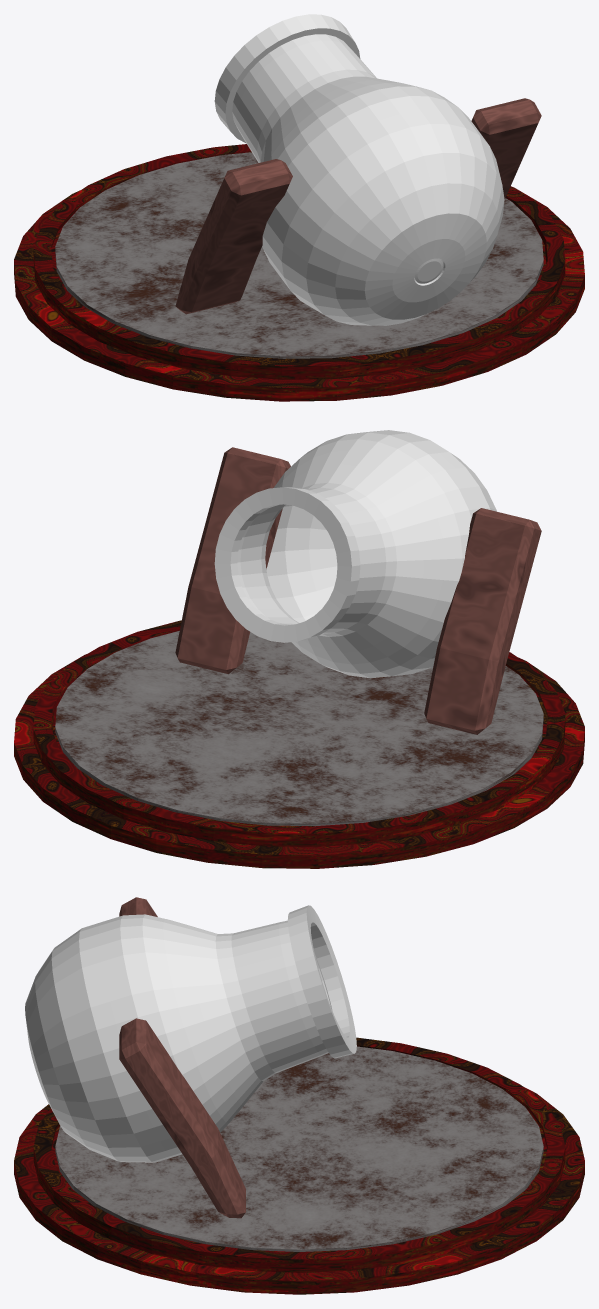
Rendered from CannonTower_fire.fbx.
3 renders of one model, top to bottom at view 1: azimuth 30°, elevation 25°; view 2: azimuth 150°, elevation 25°; view 3: azimuth 270°, elevation 25°, orthographic.
Parts seen in each view (by area): view 1: Cannon_head, Da_moving_part, Base, Support; view 2: Da_moving_part, Cannon_head, Base, Support; view 3: Da_moving_part, Cannon_head, Base, Support.
Boxes of the visible parts, box(x1,y1,x2,y2) form: Cannon_head: box(214, 14, 504, 325); Da_moving_part: box(55, 152, 543, 358); Base: box(14, 144, 584, 401); Support: box(175, 98, 541, 314); Da_moving_part: box(55, 631, 543, 826); Cannon_head: box(214, 430, 496, 678); Base: box(14, 620, 584, 868); Support: box(175, 447, 541, 734); Da_moving_part: box(55, 1046, 543, 1251); Cannon_head: box(25, 905, 356, 1162); Base: box(14, 1037, 584, 1294); Support: box(119, 897, 245, 1218).
Bounding box in the file's own units: 1130 × 570 × 1130.
